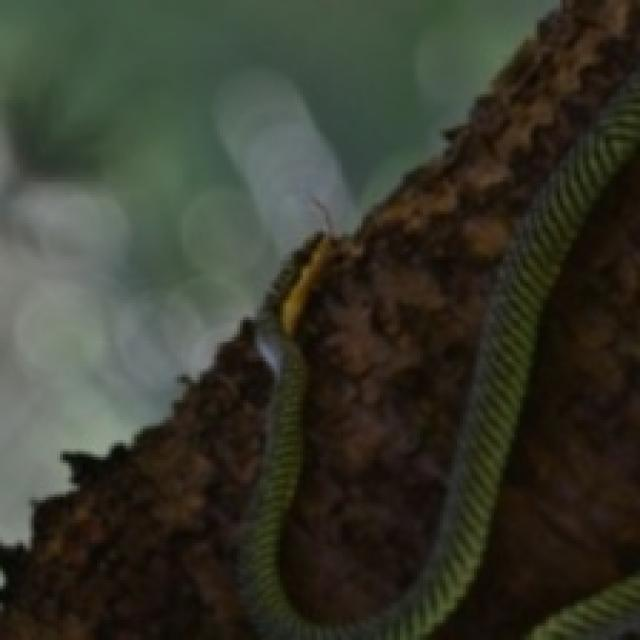paradise tree snake: (249, 0, 637, 637), (443, 409, 637, 637)
